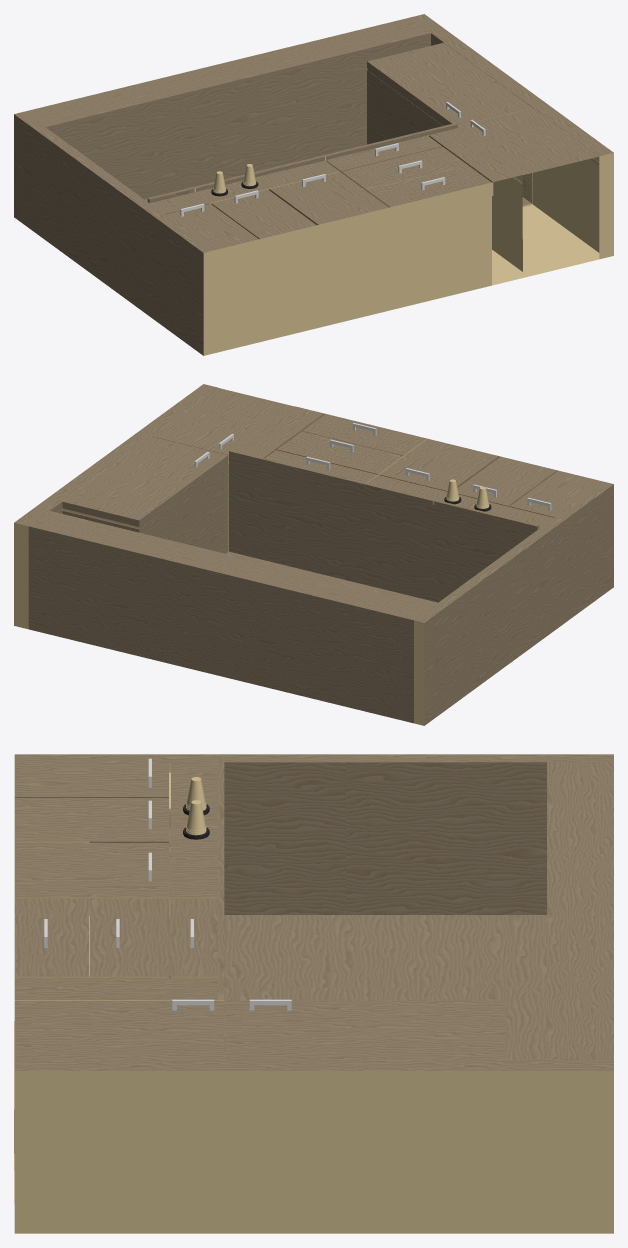
The picture shows the model from 3 angles, top to bottom: view 1: azimuth 30°, elevation 25°; view 2: azimuth 150°, elevation 25°; view 3: azimuth 270°, elevation 25°; orthographic projection. The views are drawn at different scales.
Parts seen in each view (by area): view 1: Cube.001; view 2: Cube.001; view 3: Cube.001.
Part boxes in pixels (<box>): Cube.001: <box>14,14,613,355</box>; Cube.001: <box>14,384,613,725</box>; Cube.001: <box>14,754,613,1233</box>.
Size of the model in its own units: 250 by 71.75 by 200.
